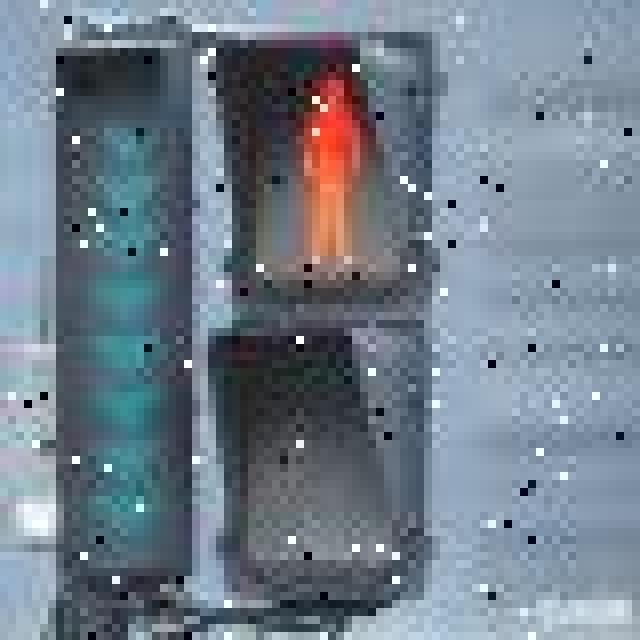redlight: (220, 47, 420, 595)
